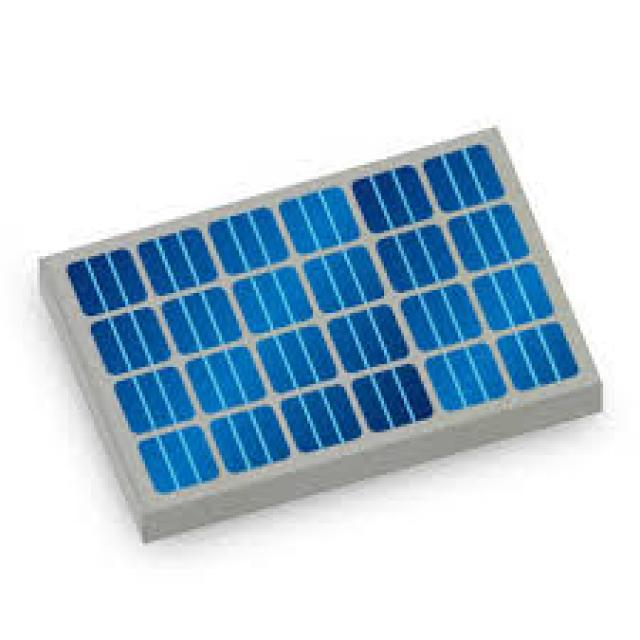no faulty: (71, 137, 577, 498)
